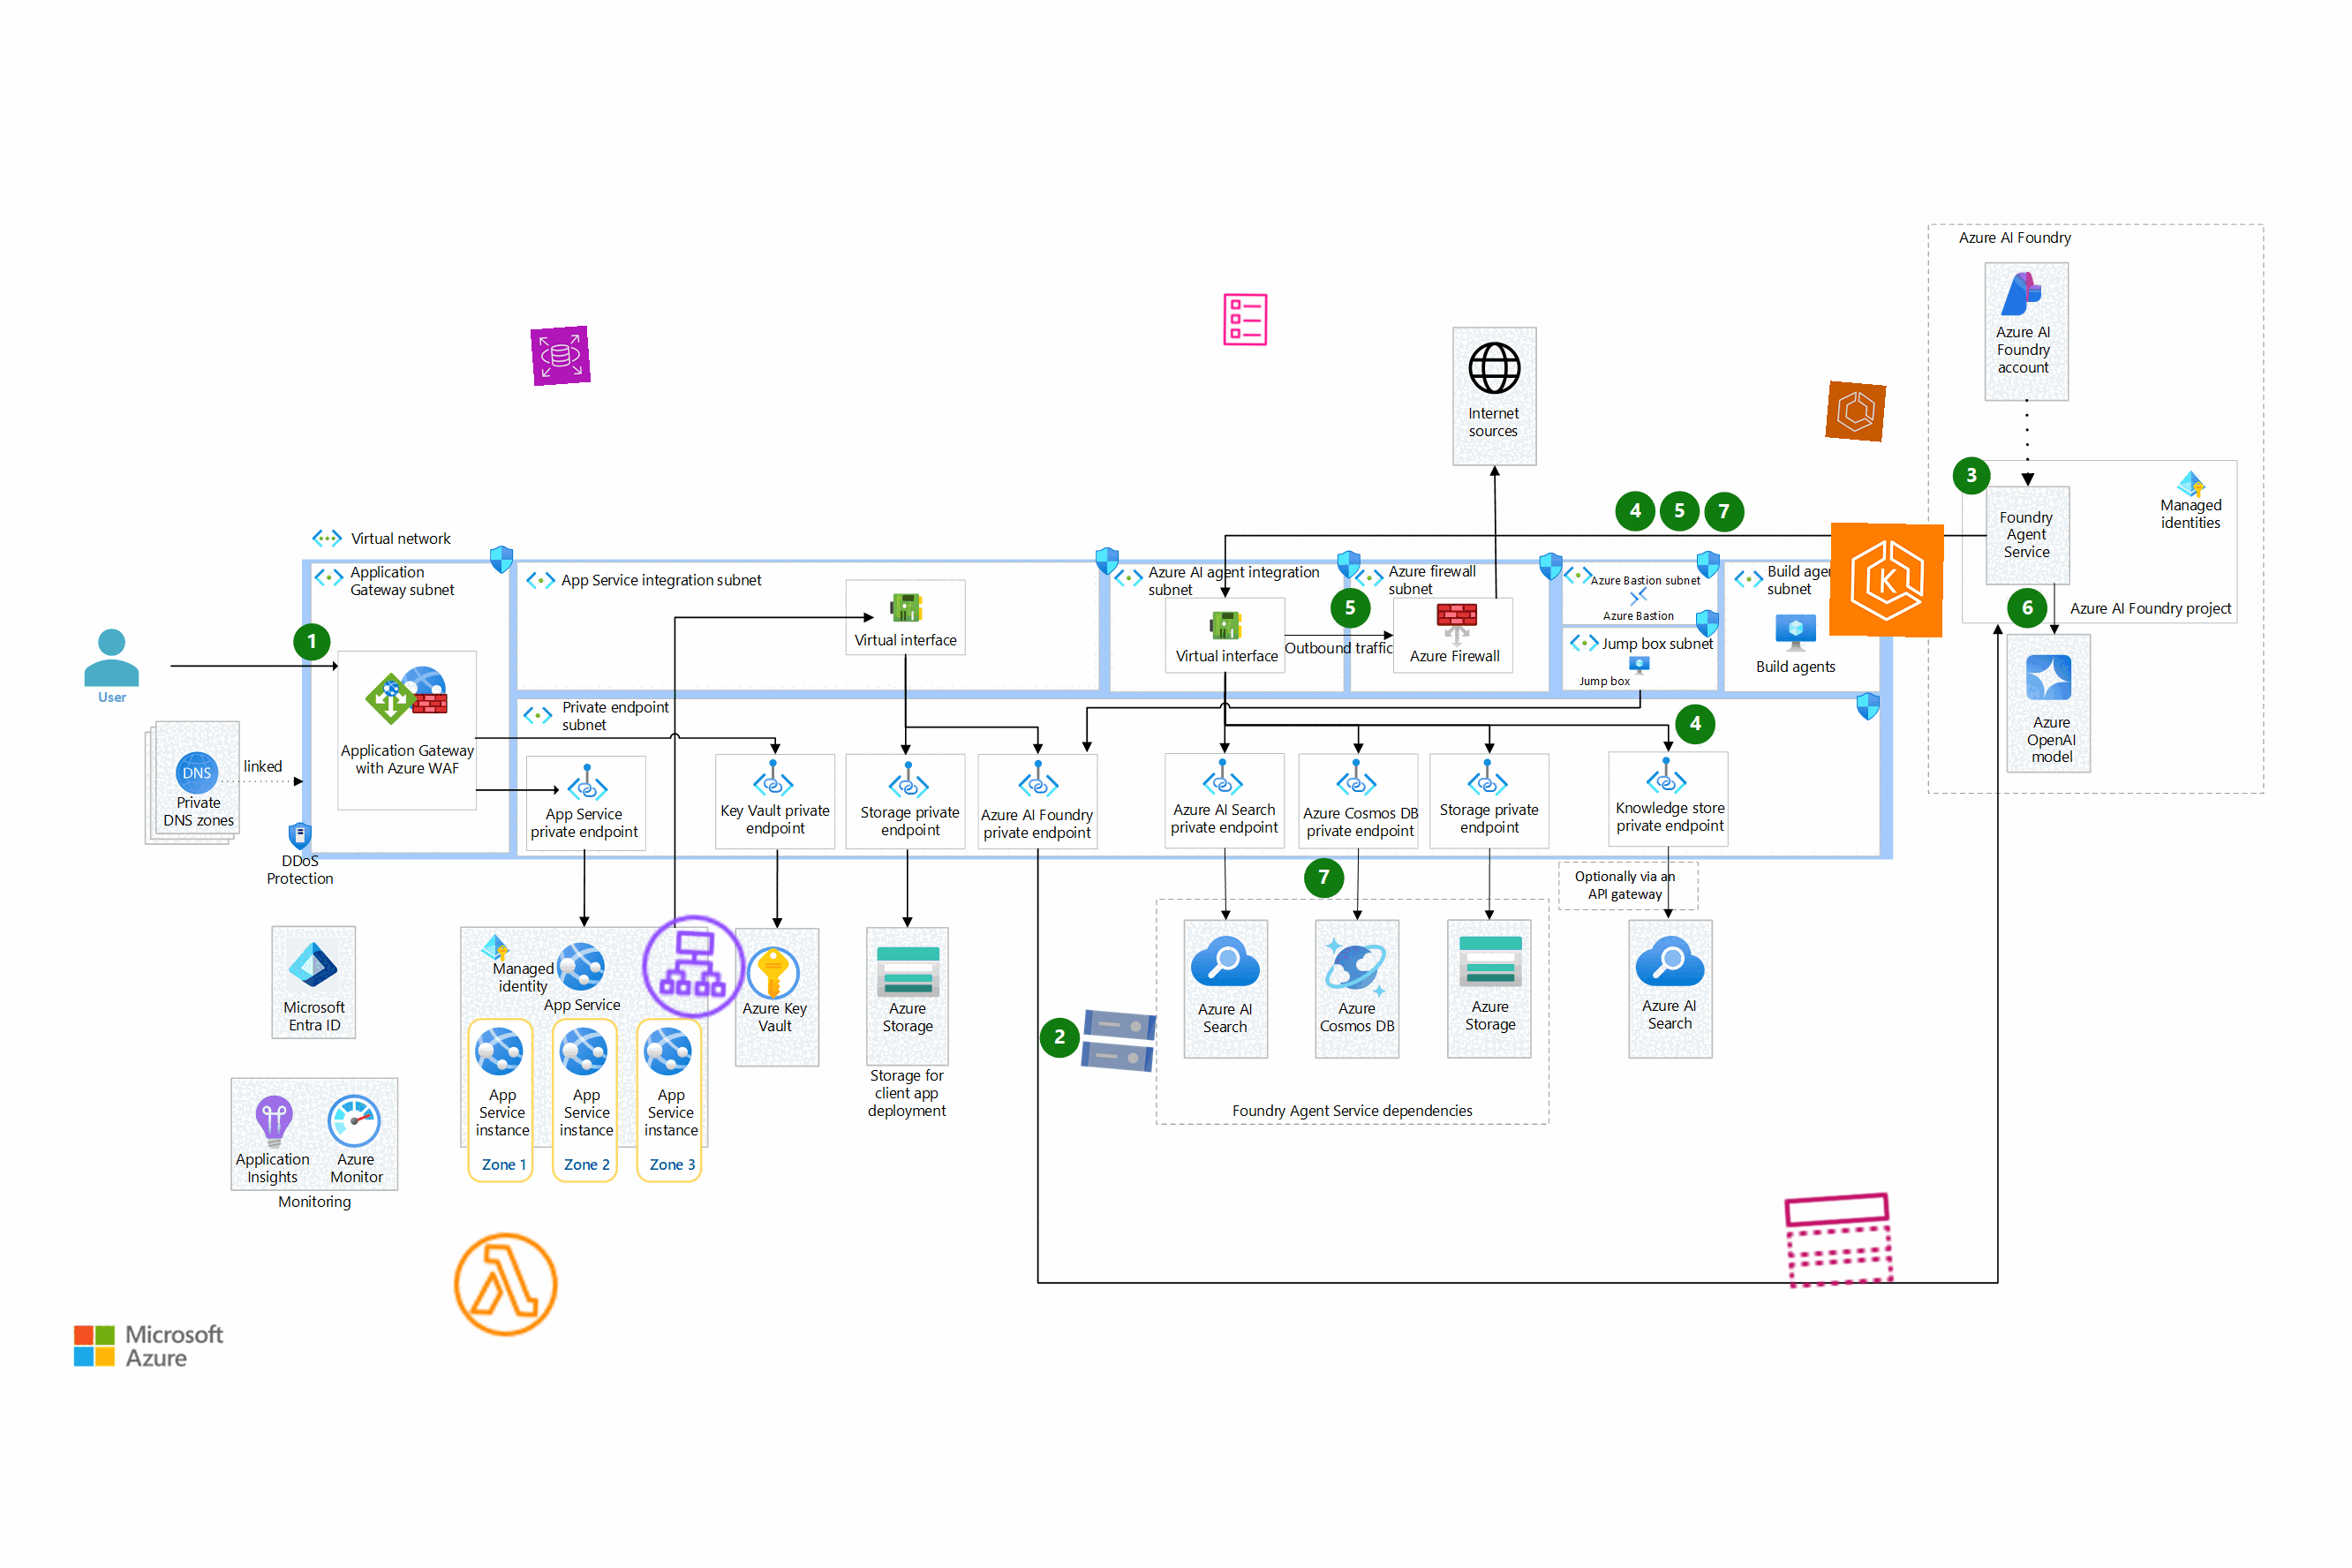aws_amazon_elastic_container_service: (1825, 380, 1886, 443)
aws_amazon_elastic_kubernetes_service: (1829, 521, 1944, 639)
aws_amazon_rds: (530, 325, 591, 387)
aws_cloudformation_template: (1216, 290, 1274, 348)
aws_elastic_load_balancing_application_load_balancer: (633, 906, 754, 1027)
aws_lambda_lambda_function: (446, 1225, 565, 1344)
aws_simple_notification_service_topic: (1778, 1179, 1901, 1302)
gcp_cloud_storage: (1073, 996, 1164, 1087)
